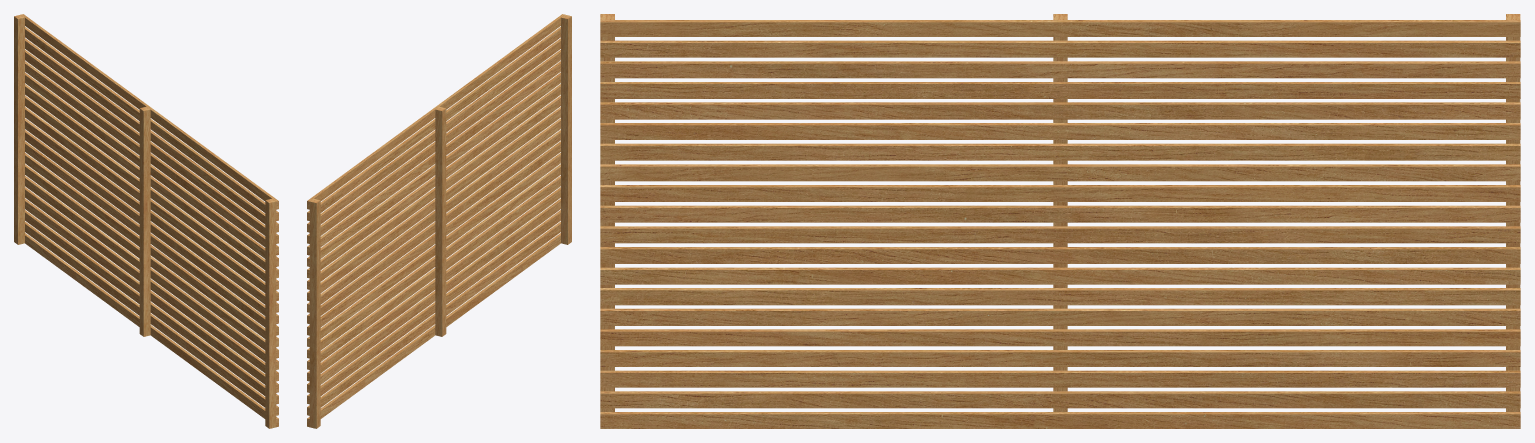
The model's file is VerandaWall.fbx.
3 renders of one model, left to right at view 1: azimuth 30°, elevation 25°; view 2: azimuth 150°, elevation 25°; view 3: azimuth 270°, elevation 25°, orthographic. The views are drawn at different scales.
Visible parts, largest first — view 1: VerandaWall; view 2: VerandaWall; view 3: VerandaWall.
Boxes of the visible parts, <box> form: VerandaWall: <box>14,14,278,428</box>; VerandaWall: <box>307,14,571,428</box>; VerandaWall: <box>600,14,1520,428</box>.
Size of the model in its own units: 1000 by 47000 by 22926.
